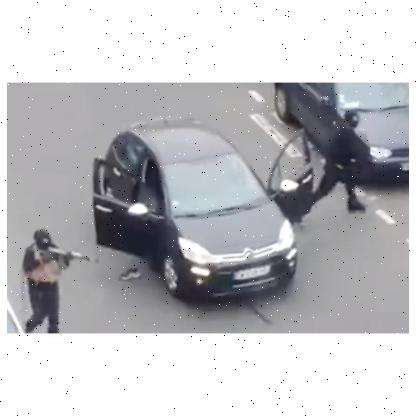gun: (38, 246, 92, 268)
